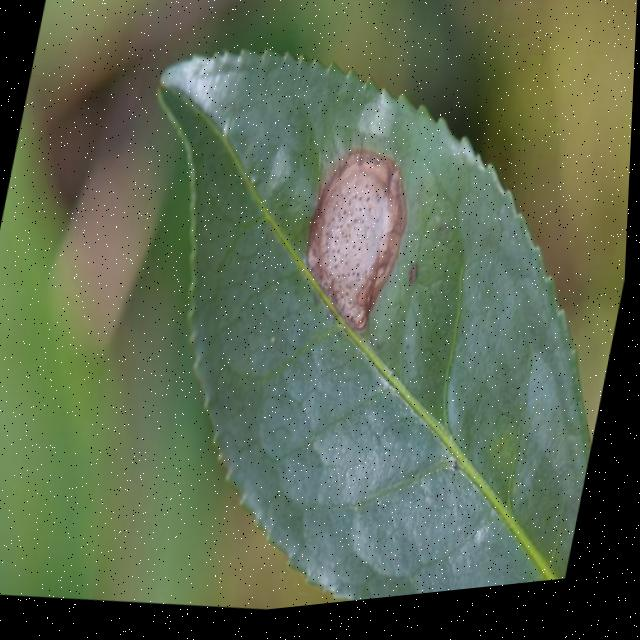Tea cloud leaf blight: (295, 147, 427, 351)
